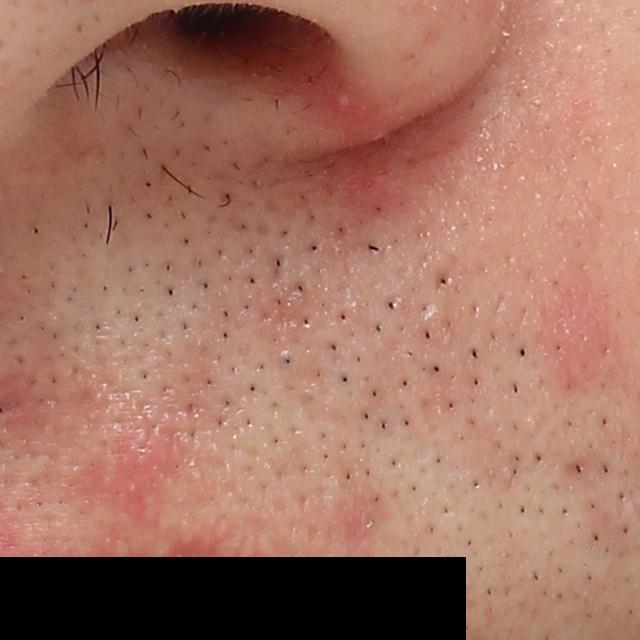pustule: (332, 90, 354, 114)
